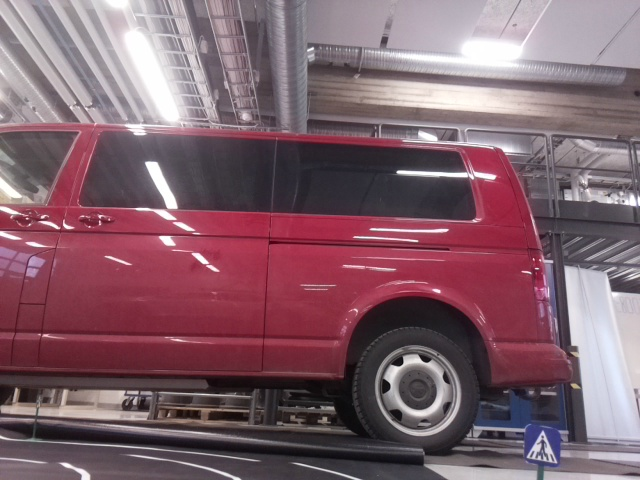Crosswalk: (525, 422, 560, 465)
